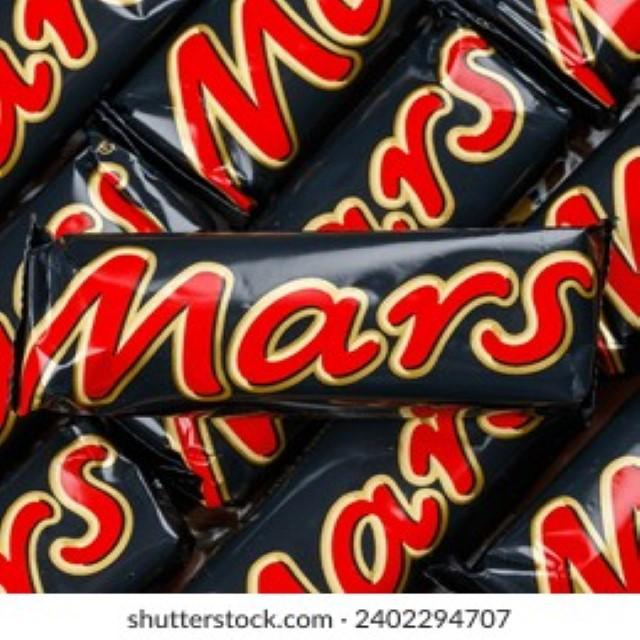mars_chocolate: (45, 18, 602, 527), (187, 133, 640, 603), (53, 235, 575, 393), (93, 0, 433, 210)
